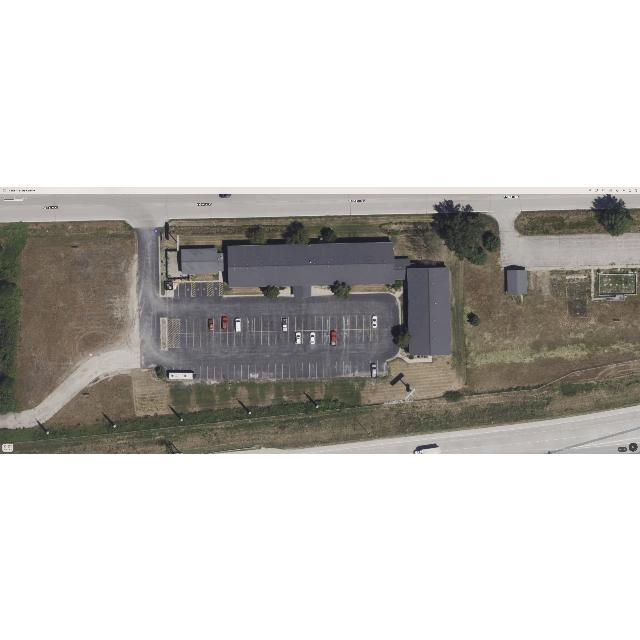Empty: (206, 332, 214, 346), (214, 332, 222, 346), (220, 332, 228, 346), (193, 318, 200, 332), (193, 333, 200, 347), (228, 332, 235, 346), (186, 320, 194, 332), (186, 334, 194, 346), (200, 318, 206, 332), (180, 333, 186, 347), (201, 332, 207, 346), (214, 318, 220, 332), (228, 317, 234, 331), (241, 317, 247, 331), (248, 332, 255, 344), (248, 317, 254, 331), (179, 282, 185, 296), (343, 315, 349, 329), (344, 361, 350, 375), (289, 316, 295, 329), (180, 320, 186, 332), (242, 332, 248, 344), (235, 332, 241, 344), (303, 330, 309, 342), (316, 330, 322, 342), (323, 330, 329, 342), (344, 329, 350, 341), (186, 282, 190, 296), (196, 282, 200, 296), (202, 282, 206, 296), (214, 281, 218, 295)
Parked: (370, 361, 378, 377), (206, 318, 214, 332), (370, 314, 378, 328), (330, 329, 336, 345), (235, 317, 241, 331), (221, 317, 227, 331), (282, 316, 288, 329), (296, 331, 302, 344), (310, 331, 316, 344)
